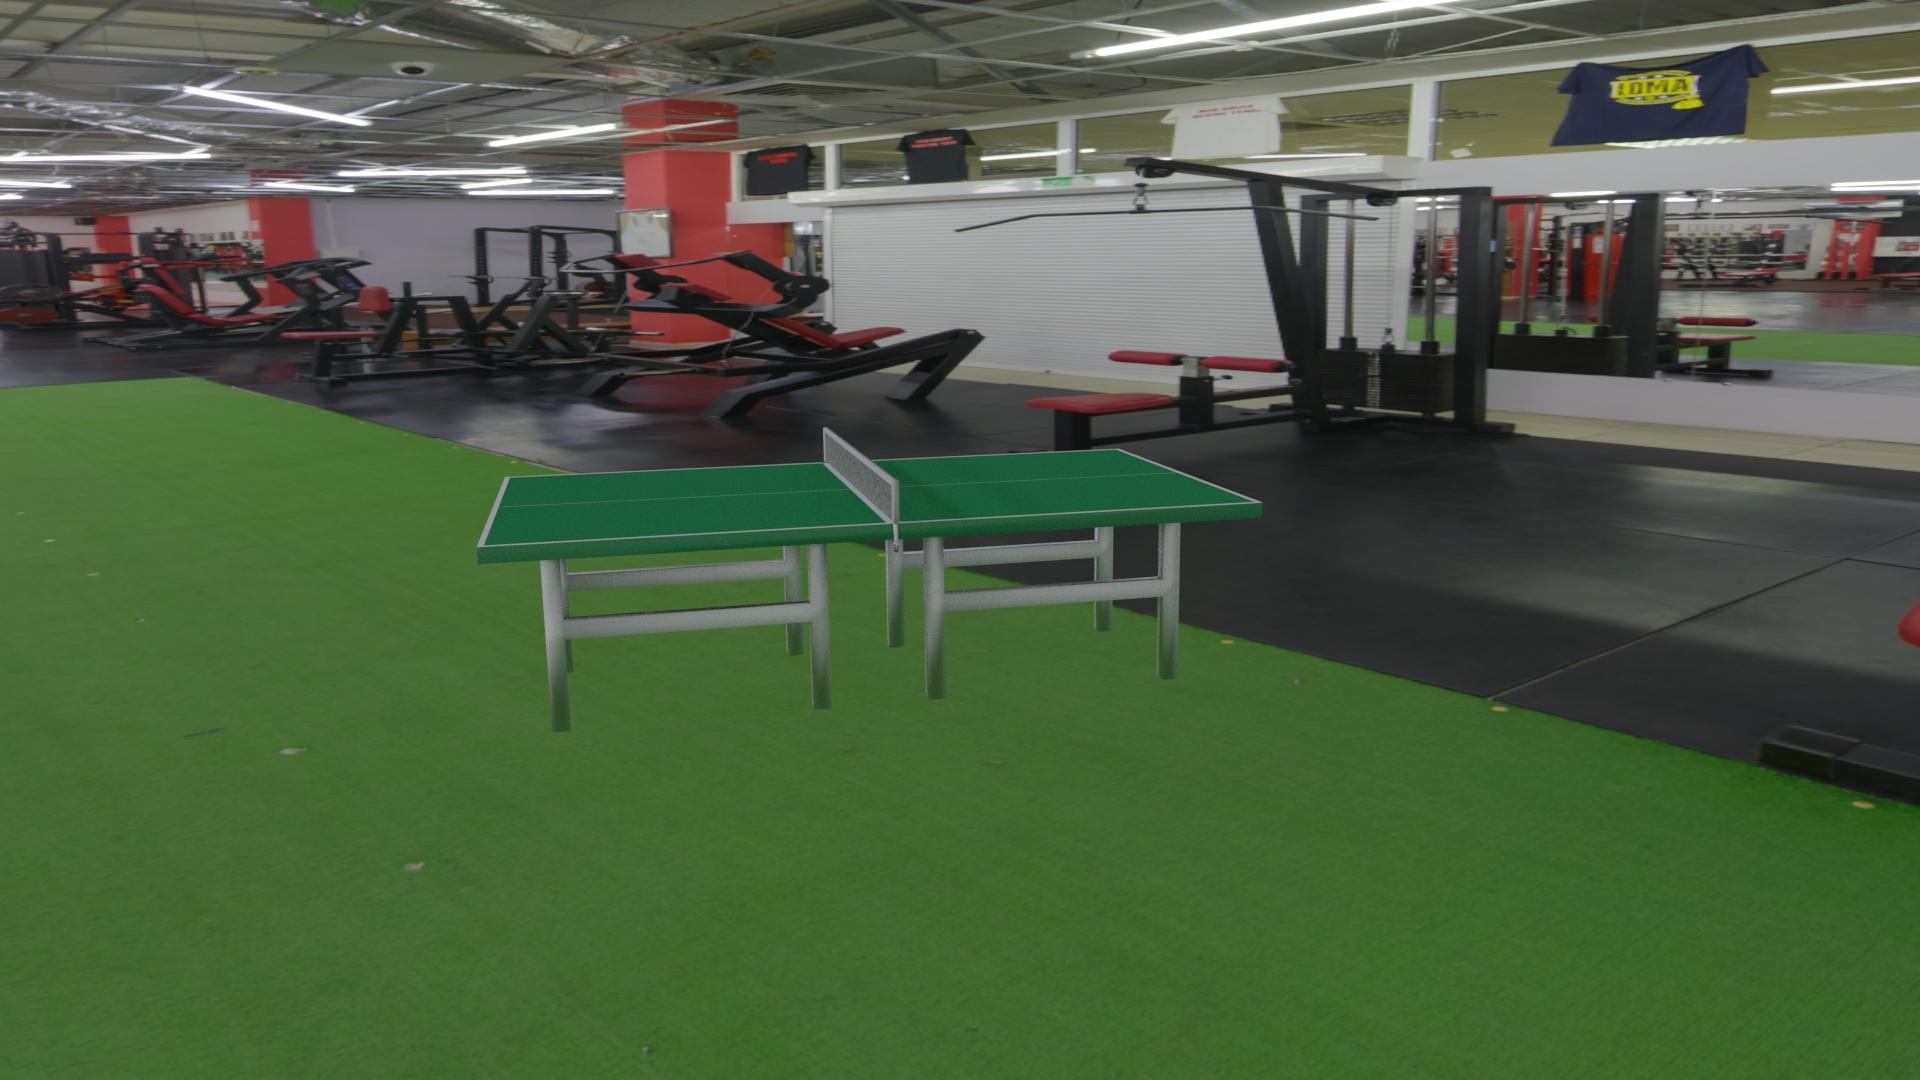table: (484, 450, 1255, 546)
